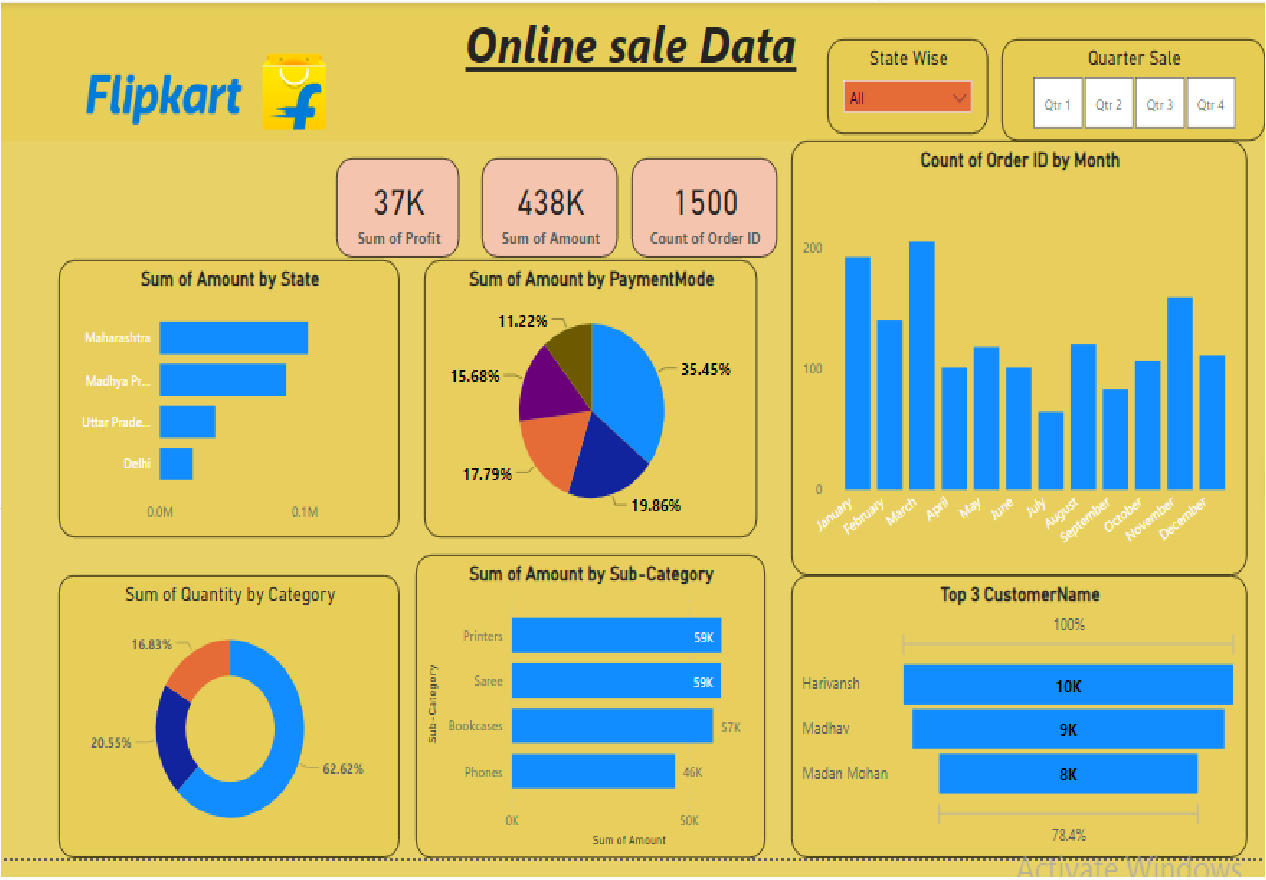

Layout of this report page (visuals, bound fields, positions):
{"tool":"powerbi","page":{"name":"Page 1","canvas":[1280,720],"ordinal":0},"visuals":[{"type":"clusteredColumnChart","fields":{"Category":["Orders.Order Date.Variation.Date Hierarchy.Month"],"Y":["Details.Order ID"]},"box":[802,116,460,366],"z":0},{"type":"textbox","box":[0,0,1280,116],"z":1000},{"type":"clusteredBarChart","fields":{"Y":["Details.Amount"],"Category":["Details.Sub-Category"]},"box":[422.9,464.3,352.9,255.7],"z":2000},{"type":"donutChart","fields":{"Category":["Details.Category"],"Y":["Details.Quantity"]},"box":[62,482,344,238],"z":3000},{"type":"clusteredBarChart","fields":{"Category":["Orders.State"],"Y":["Details.Amount"]},"box":[62,216,344,234],"z":4000},{"type":"pieChart","fields":{"Category":["Details.PaymentMode"],"Y":["Details.Amount"]},"box":[432,216,336,234],"z":5000},{"type":"slicer","title":"Quarter Sale","fields":{"Values":["Orders.Order Date.Variation.Date Hierarchy.Quarter"]},"box":[1014,30,266,86],"z":6000},{"type":"slicer","title":"State Wise","fields":{"Values":["Orders.State"]},"box":[838,30,162,80],"z":7000},{"type":"card","fields":{"Values":["Details.Profit"]},"box":[342.9,131.4,124.3,84.3],"z":9000},{"type":"funnel","title":"Top 3 CustomerName","fields":{"Y":["Details.Amount"],"Category":["Orders.CustomerName"]},"box":[802,482,460,238],"z":9001},{"type":"card","fields":{"Values":["Details.Order ID"]},"box":[640,131.4,147.1,84.3],"z":9002},{"type":"card","fields":{"Values":["Details.Amount"]},"box":[490,131.4,137.1,84.3],"z":9003},{"type":"image","box":[61.4,0,300,148.6],"z":9004}]}

Visuals, with their boxes on the page's 1280x720 design canvas (x1, y1, x2, y2). These are canvas units, not pixel positions in the 1266x880 screenshot, which may show the page scaled, cropped or inside an application window:
clusteredColumnChart - Orders.Order Date.Variation.Date Hierarchy.Month x Details.Order ID: bbox=[802, 116, 1262, 482]
textbox: bbox=[0, 0, 1280, 116]
clusteredBarChart - Details.Amount x Details.Sub-Category: bbox=[423, 464, 776, 720]
donutChart - Details.Category x Details.Quantity: bbox=[62, 482, 406, 720]
clusteredBarChart - Orders.State x Details.Amount: bbox=[62, 216, 406, 450]
pieChart - Details.PaymentMode x Details.Amount: bbox=[432, 216, 768, 450]
"Quarter Sale" slicer: bbox=[1014, 30, 1280, 116]
"State Wise" slicer: bbox=[838, 30, 1000, 110]
card - Details.Profit: bbox=[343, 131, 467, 216]
"Top 3 CustomerName" funnel: bbox=[802, 482, 1262, 720]
card - Details.Order ID: bbox=[640, 131, 787, 216]
card - Details.Amount: bbox=[490, 131, 627, 216]
image: bbox=[61, 0, 361, 149]
